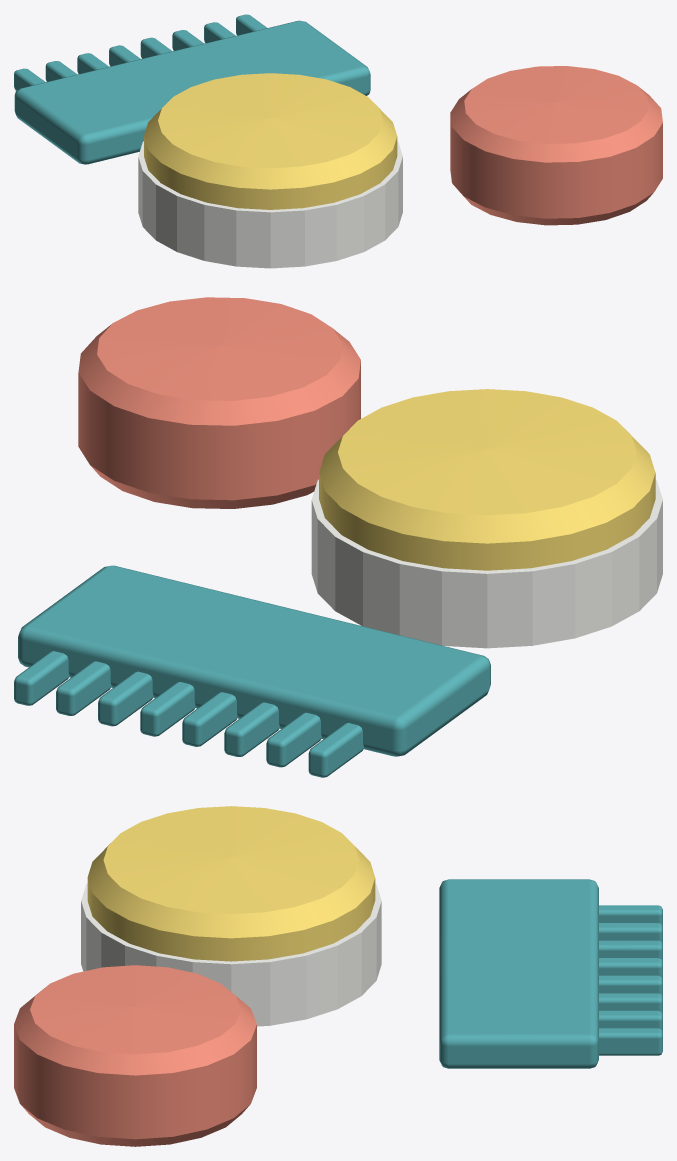
Rendered from beach-surf-and-paddle-kit-surf-wax-kit-46efa405.glb.
The picture shows the model from 3 angles, top to bottom: view 1: azimuth 30°, elevation 25°; view 2: azimuth 150°, elevation 25°; view 3: azimuth 270°, elevation 25°; orthographic projection. The views are drawn at different scales.
Parts seen in each view (by area): view 1: surf-wax-kit-coral, surf-wax-kit-sun, surf-wax-kit-teal, surf-wax-kit-foam; view 2: surf-wax-kit-teal, surf-wax-kit-coral, surf-wax-kit-sun, surf-wax-kit-foam; view 3: surf-wax-kit-teal, surf-wax-kit-coral, surf-wax-kit-sun, surf-wax-kit-foam.
Part boxes in pixels (<box>): surf-wax-kit-coral: <box>450,66,662,225</box>; surf-wax-kit-sun: <box>144,73,397,209</box>; surf-wax-kit-teal: <box>14,14,370,164</box>; surf-wax-kit-foam: <box>138,141,402,268</box>; surf-wax-kit-teal: <box>14,565,490,777</box>; surf-wax-kit-coral: <box>78,297,360,508</box>; surf-wax-kit-sun: <box>319,389,655,570</box>; surf-wax-kit-foam: <box>311,479,662,648</box>; surf-wax-kit-teal: <box>439,879,662,1068</box>; surf-wax-kit-coral: <box>14,965,256,1146</box>; surf-wax-kit-sun: <box>87,806,375,961</box>; surf-wax-kit-foam: <box>81,883,381,1026</box>.
Bounding box in the file's own units: 0.185 × 0.037 × 0.203.
